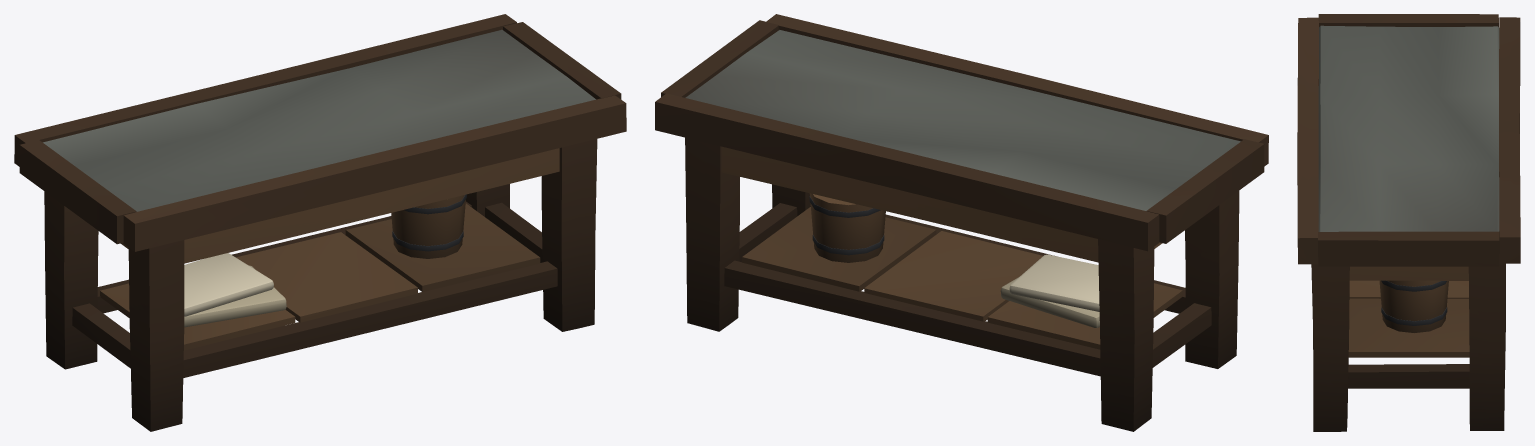
File: ph_prop_morgue_table.glb
3 views of the same model, side by side, from view 1: azimuth 30°, elevation 25°; view 2: azimuth 150°, elevation 25°; view 3: azimuth 270°, elevation 25° (orthographic). The views are drawn at different scales.
Parts seen in each view (by area): view 1: ph_prop_morgue_table; view 2: ph_prop_morgue_table; view 3: ph_prop_morgue_table.
Part boxes in pixels (x1,y1,x2,y2): ph_prop_morgue_table: (14,14,626,431); ph_prop_morgue_table: (655,14,1268,431); ph_prop_morgue_table: (1297,14,1520,431).
Bounding box in the file's own units: 2.05 × 0.8667 × 0.8547.
